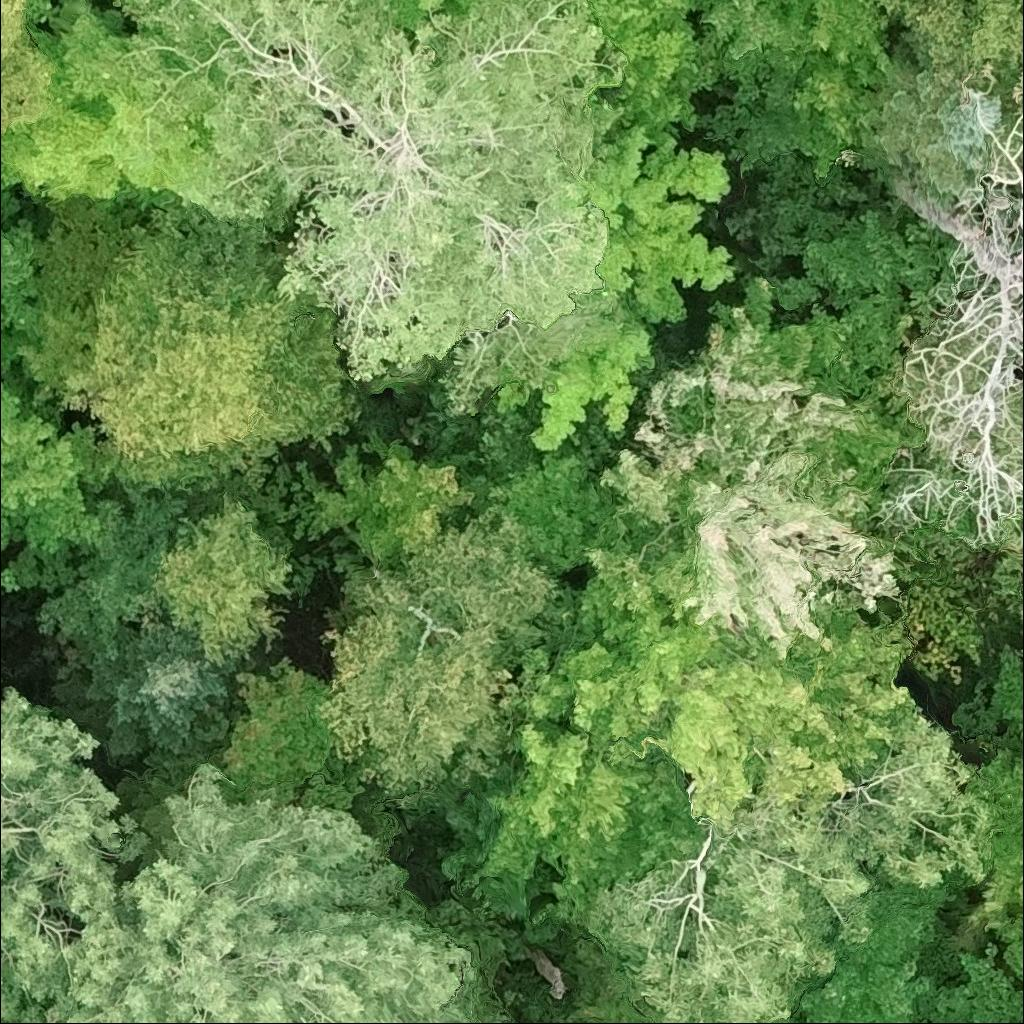crown: (108, 0, 638, 422), (581, 275, 926, 664), (12, 759, 516, 1023), (580, 716, 999, 1023), (459, 572, 722, 927), (63, 209, 357, 492), (313, 507, 567, 799), (876, 87, 1023, 545), (645, 606, 918, 841), (0, 684, 155, 1023), (0, 0, 219, 221), (586, 119, 736, 332), (44, 623, 256, 767), (856, 26, 1022, 197), (279, 441, 476, 562), (152, 497, 293, 665), (773, 0, 906, 176), (793, 879, 949, 1023), (0, 380, 106, 589), (584, 0, 720, 159), (527, 320, 665, 448), (218, 657, 330, 798), (695, 0, 813, 109), (965, 746, 1023, 935), (905, 0, 1023, 88), (0, 0, 62, 143), (382, 0, 467, 33), (862, 0, 924, 22), (780, 1020, 805, 1023), (896, 1020, 911, 1023), (865, 1021, 874, 1023)
